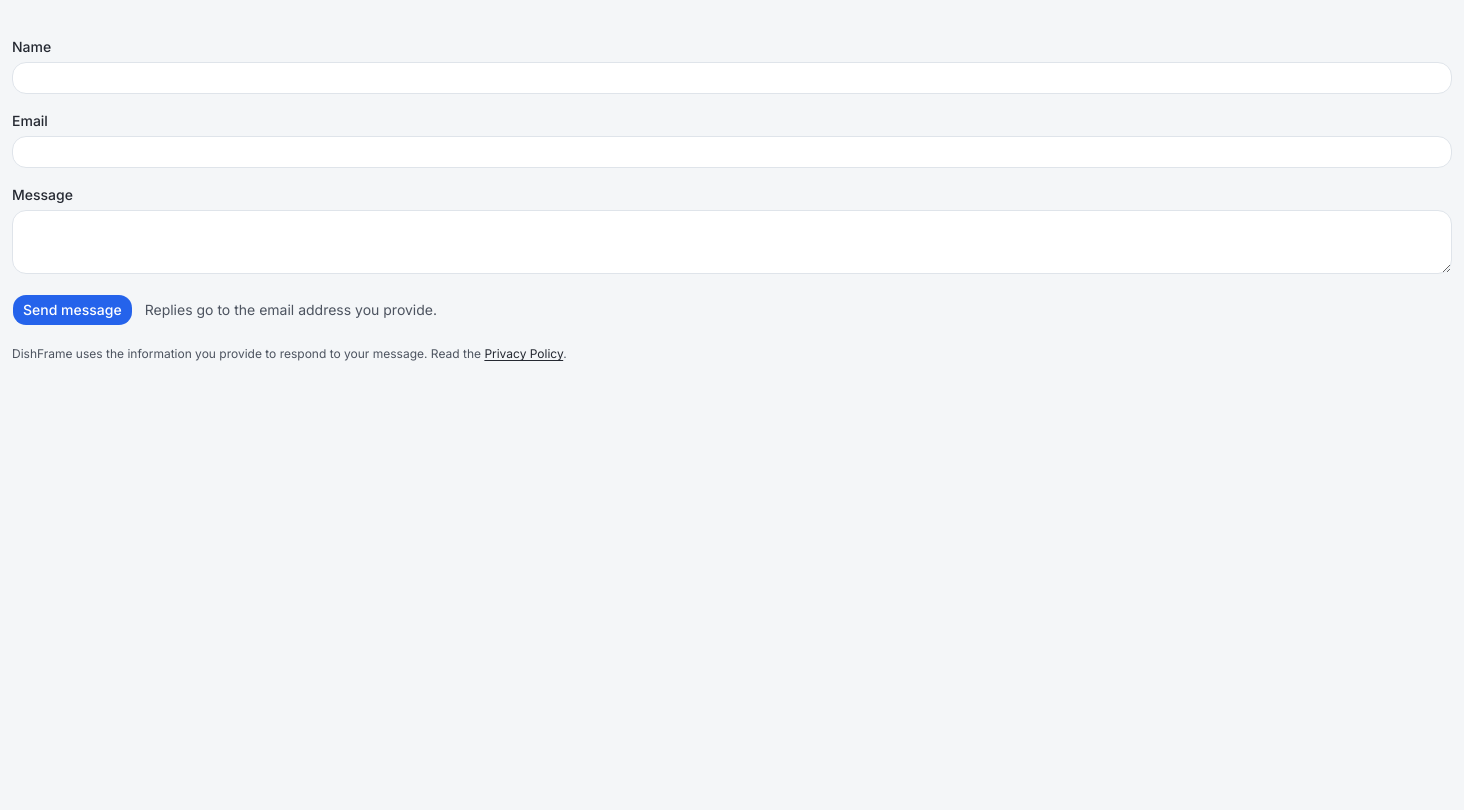
Test: ContactForm › shows a success toast (not an inline banner) after a successful submission
Type "Ada Lovelace" into the field labelled "Name".
click(732, 78); type("Ada Lovelace")  # box left=12, top=62, right=1452, bottom=94
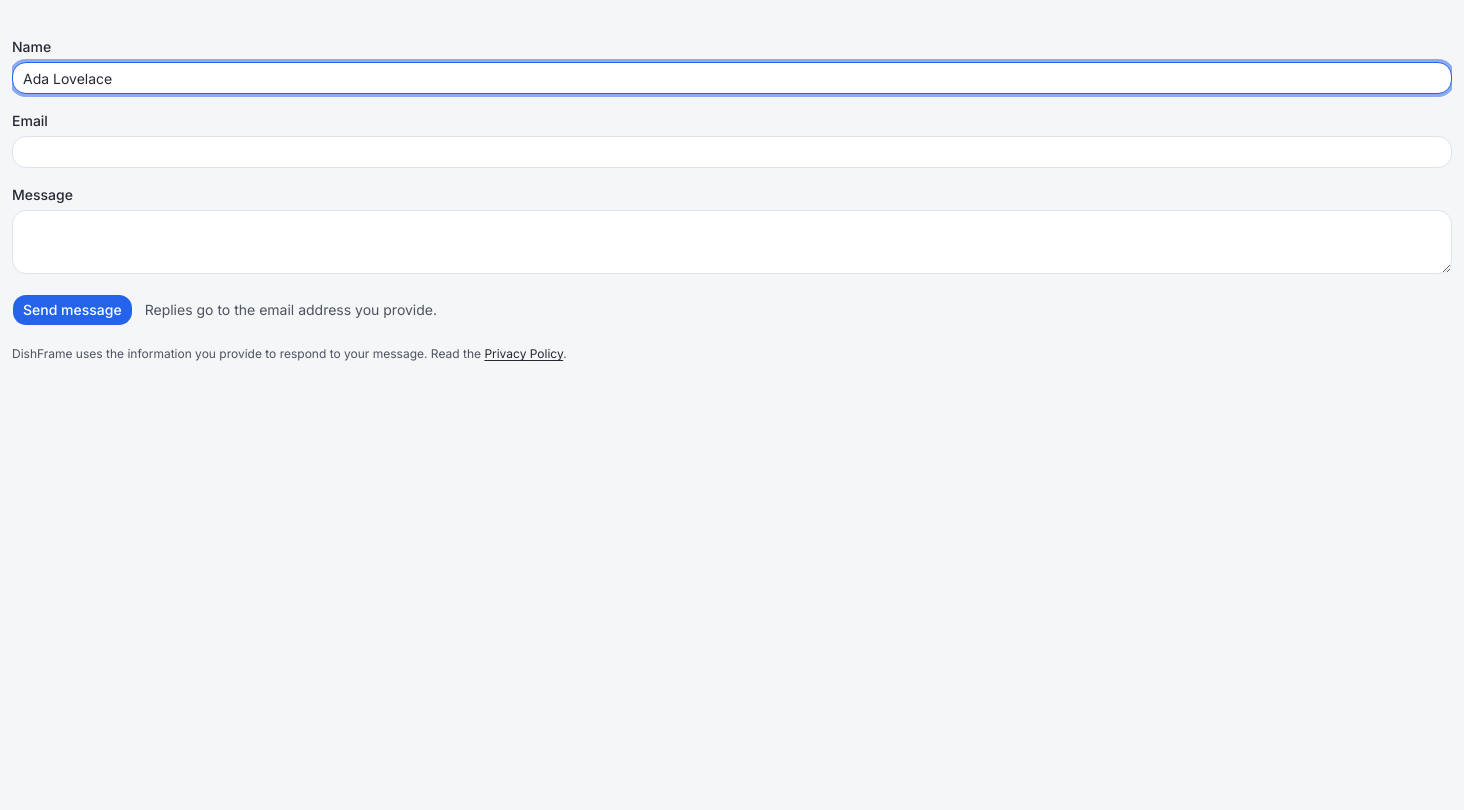
Type "ada@example.com" into the field labelled "Email".
click(732, 152); type("ada@example.com")  # box left=12, top=136, right=1452, bottom=168
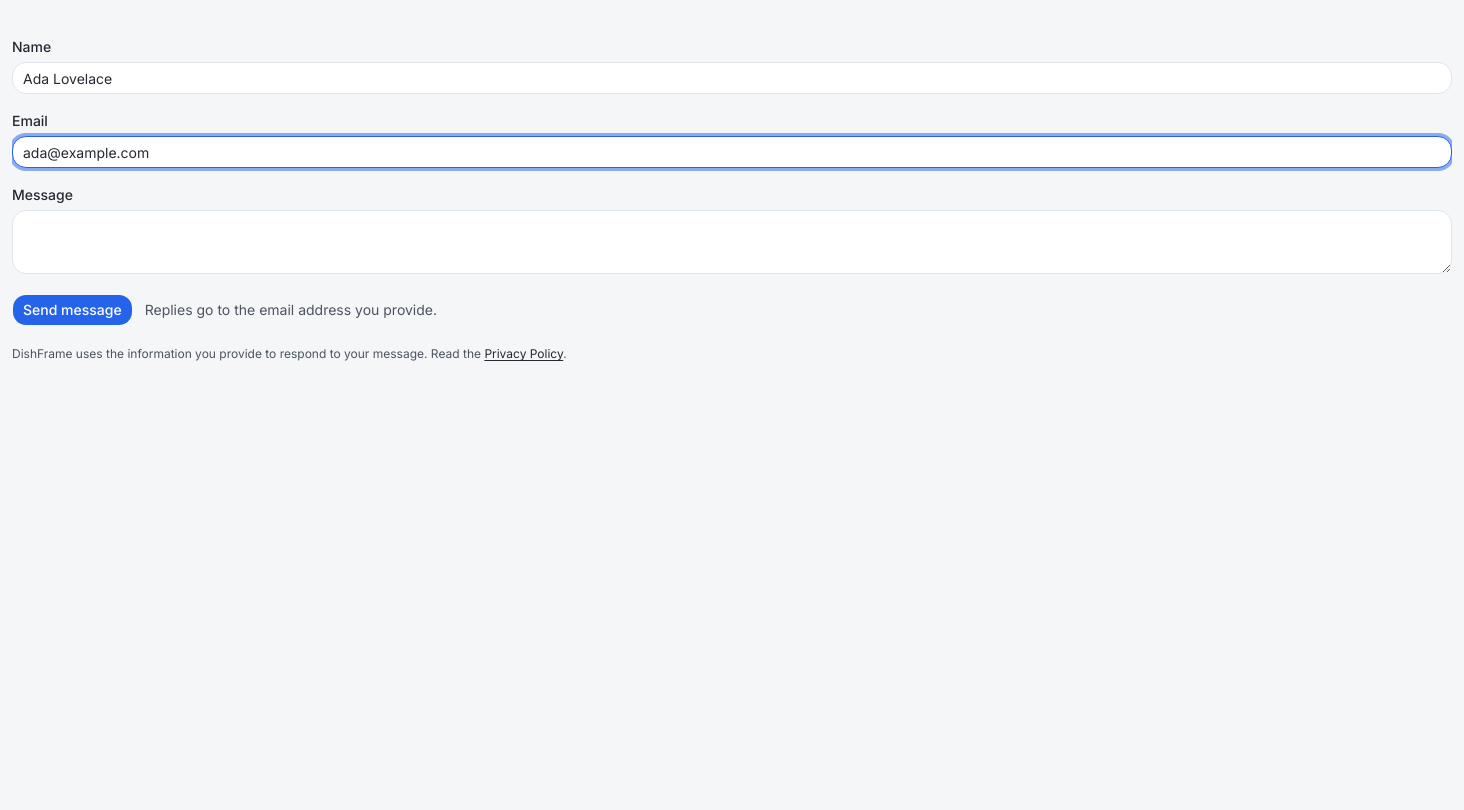
Type "Loving DishFrame so far!" into the text box labelled "Message".
click(732, 242); type("Loving DishFrame so far!")  # box left=12, top=210, right=1452, bottom=274
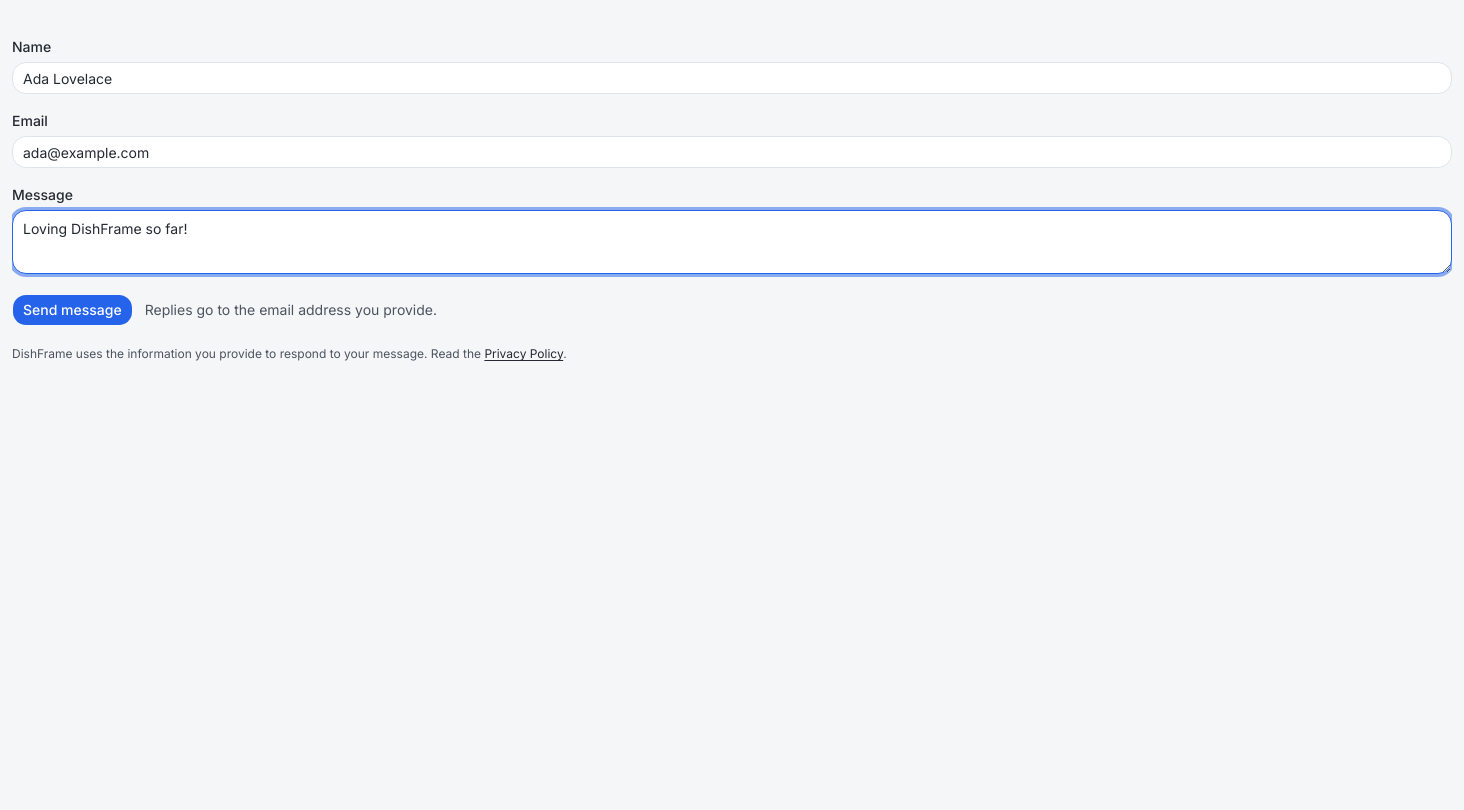
Click the button "Send message".
click(72, 310)  # box left=12, top=294, right=133, bottom=326
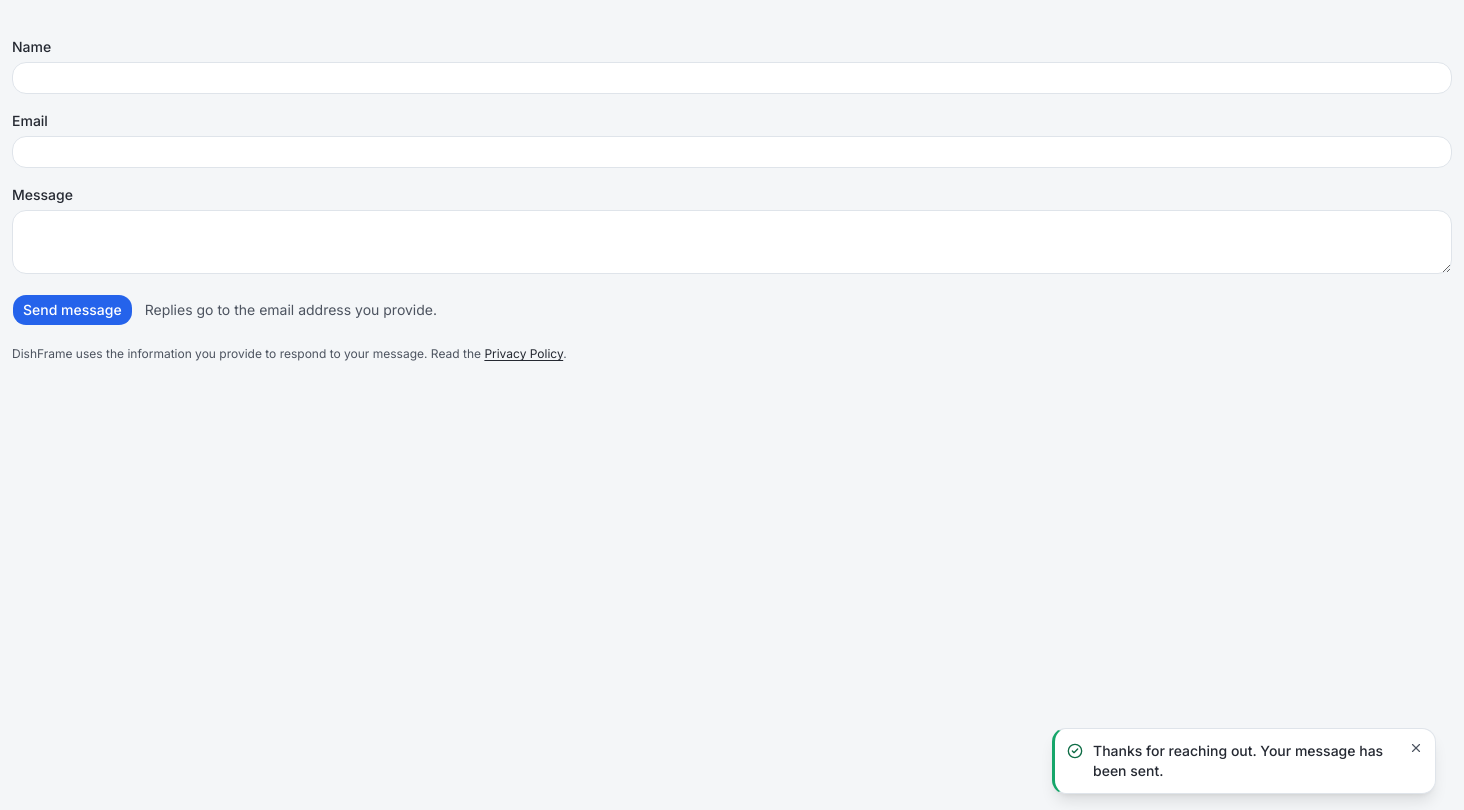
Now the text "Thanks for reaching out. Your message has been sent." is shown, box left=1093, top=741, right=1399, bottom=781
